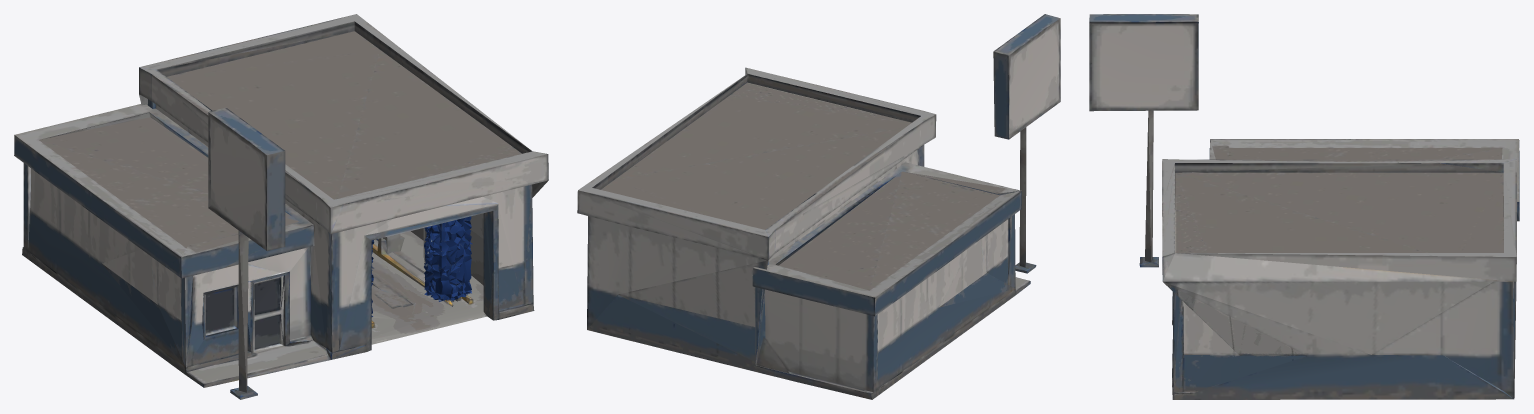
The model's file is carwash.glb.
3 views of the same model, side by side, from view 1: azimuth 30°, elevation 25°; view 2: azimuth 150°, elevation 25°; view 3: azimuth 270°, elevation 25° (orthographic). The views are drawn at different scales.
Visible parts, largest first — view 1: placed; view 2: placed; view 3: placed.
Part boxes in pixels (x1=…): placed: x1=14, y1=14, x2=548, y2=399; placed: x1=577, y1=14, x2=1060, y2=399; placed: x1=1089, y1=14, x2=1519, y2=399.
Size of the model in its own units: 15.28 by 11.32 by 18.
Materials: 1 (1 with a texture image).
